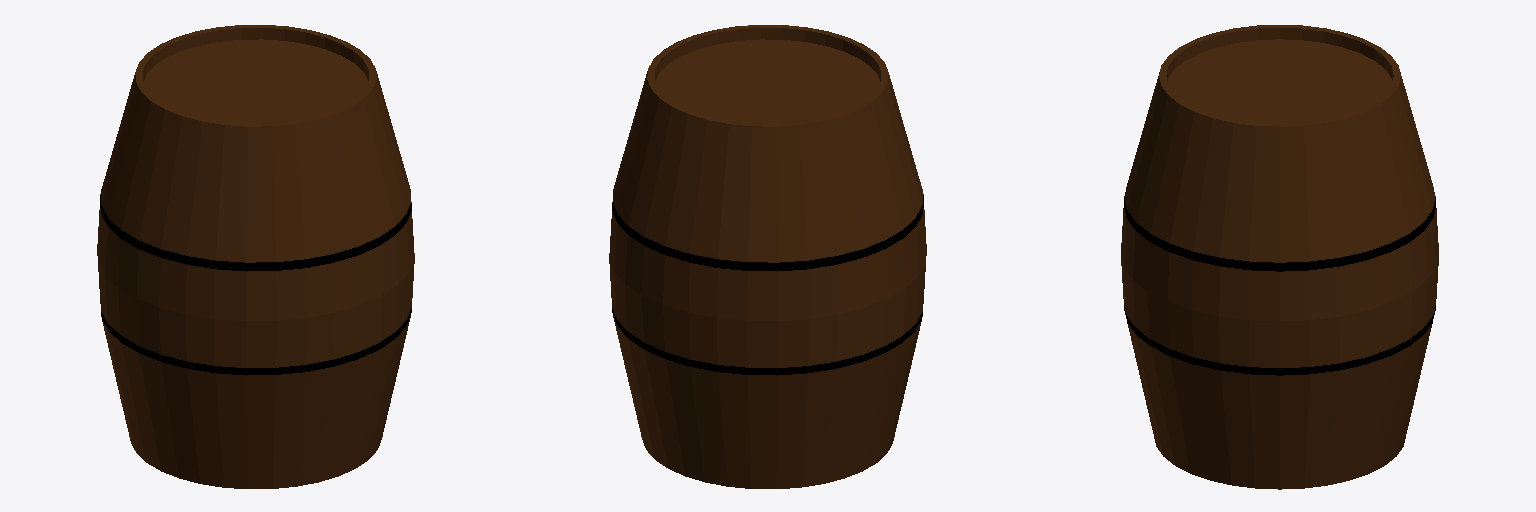
The model's file is Wooden_Barrel.obj.
3 renders of one model, left to right at view 1: azimuth 30°, elevation 25°; view 2: azimuth 150°, elevation 25°; view 3: azimuth 270°, elevation 25°, orthographic.
Visible parts, largest first — view 1: Cylinder.001; view 2: Cylinder.001; view 3: Cylinder.001.
Part boxes in pixels (x1,y1,x2,y2): Cylinder.001: (97,25,414,488); Cylinder.001: (609,25,926,488); Cylinder.001: (1121,25,1438,489).
Size of the model in its own units: 0.8 by 1 by 0.8.